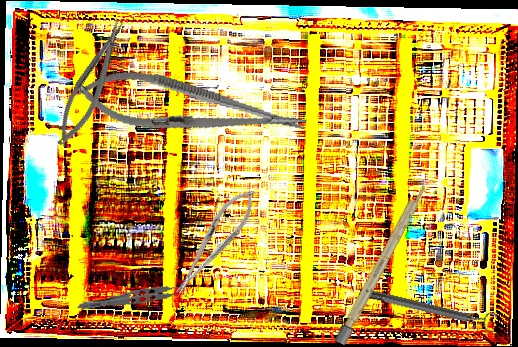Fixation Ring: (357, 279, 498, 336)
Needle Holder: (71, 62, 311, 153), (46, 15, 138, 152), (164, 181, 265, 302)
Scalpel Handle: (334, 178, 431, 346)
Tissue Forceps: (76, 280, 191, 320)
